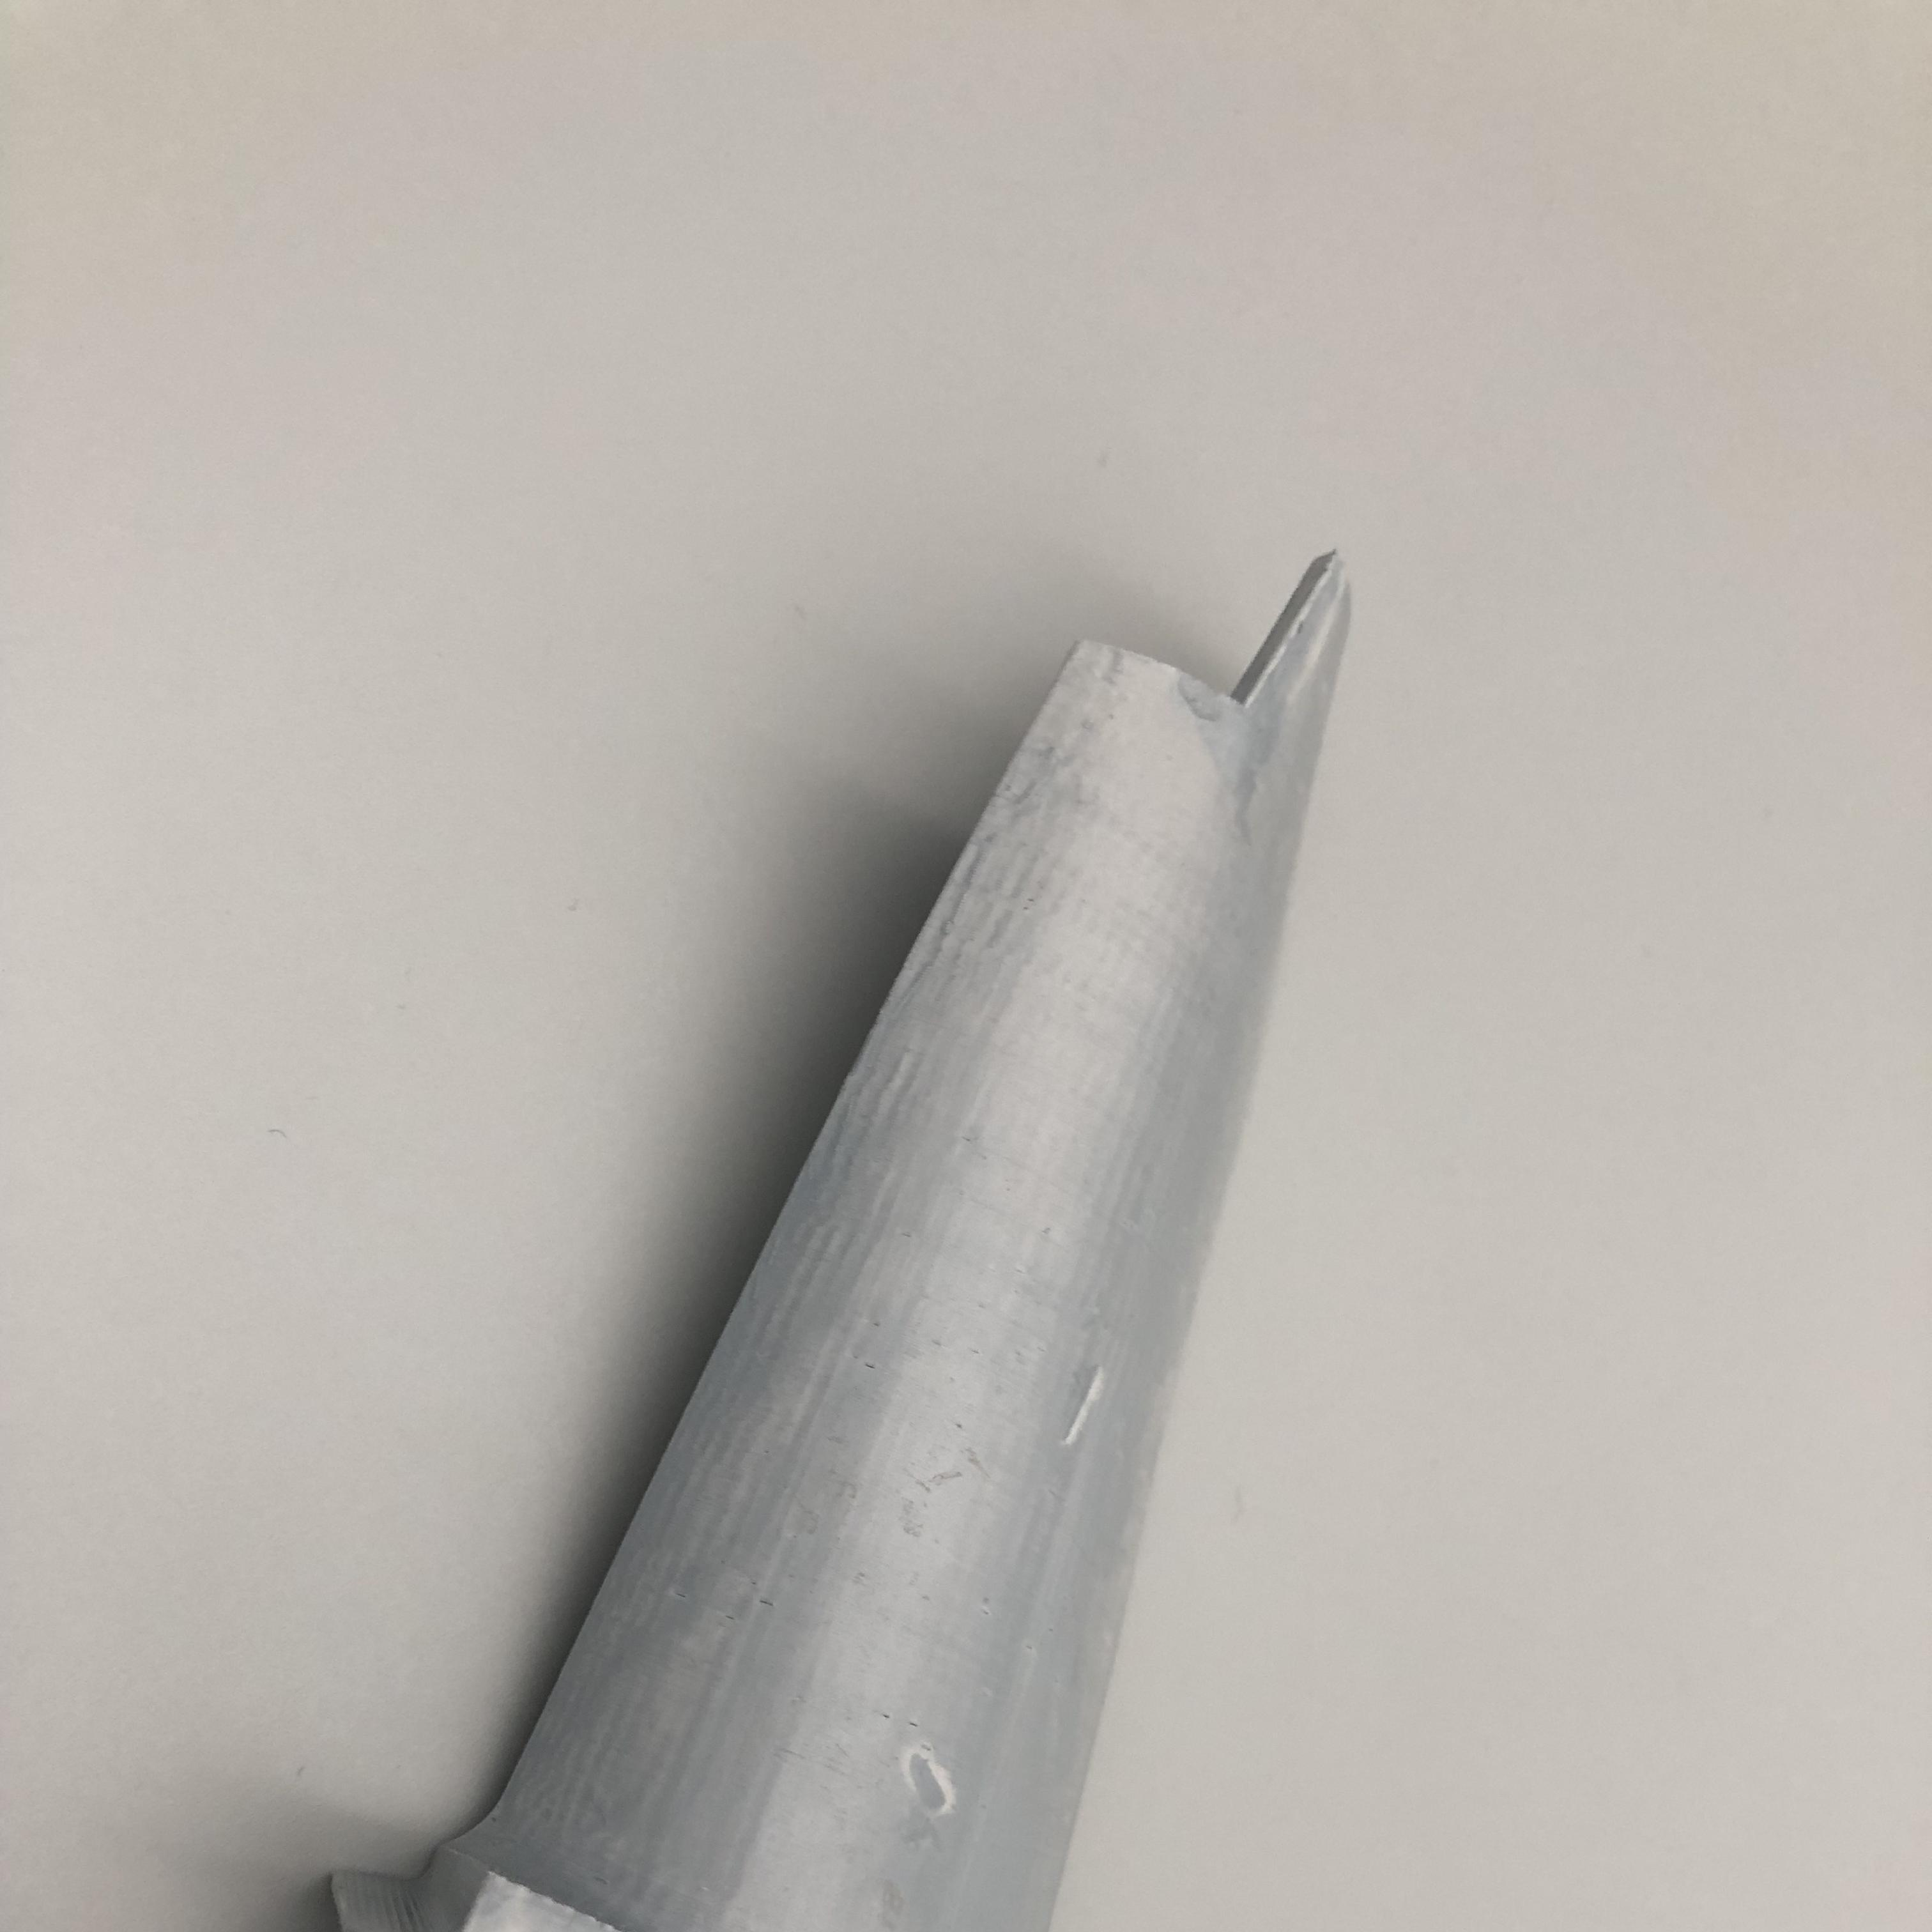fracture: (1086, 524, 1345, 717)
